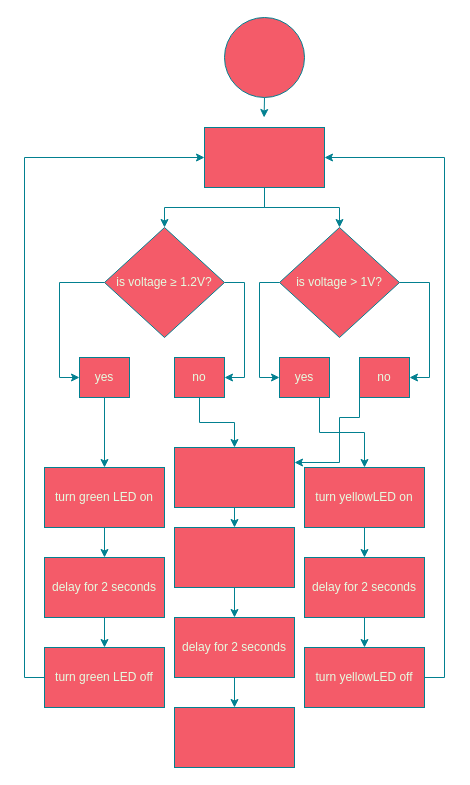
Image size: 470x785. Some labels were removed from this diagram. Each missing label, with the centre of its shape:
"old battery" belongs at point 234,477.
"read value from a0 convert to voltage" belongs at point 264,157.
"start" belongs at point 264,57.
"turn red LED off" belongs at point 234,737.
"turn red LED on" belongs at point 234,557.
